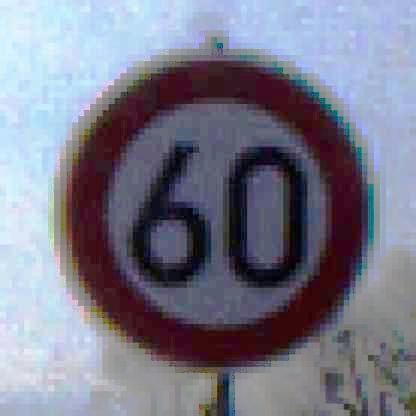Speed Limit -60-: (51, 43, 381, 374)
